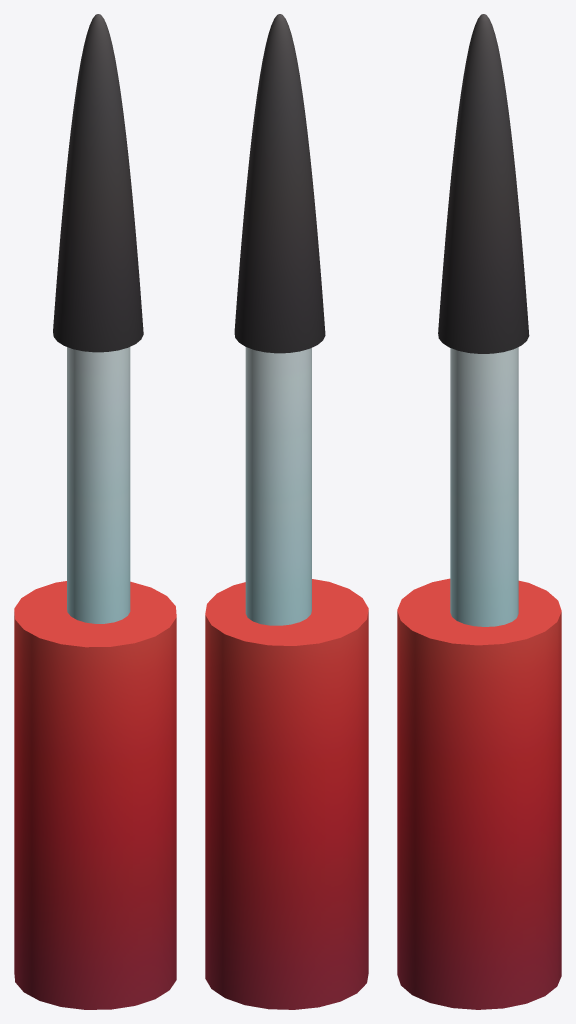
File: Lip_paint.fbx
3 renders of one model, left to right at view 1: azimuth 30°, elevation 25°; view 2: azimuth 150°, elevation 25°; view 3: azimuth 270°, elevation 25°, orthographic.
Parts seen in each view (by area): view 1: Lip_paint; view 2: Lip_paint; view 3: Lip_paint.
Boxes of the visible parts, bbox=[...] form: Lip_paint: bbox=[14, 14, 176, 1009]; Lip_paint: bbox=[205, 14, 368, 1009]; Lip_paint: bbox=[397, 14, 561, 1009].
Bounding box in the file's own units: 0.6293 × 4.07 × 0.6294.
